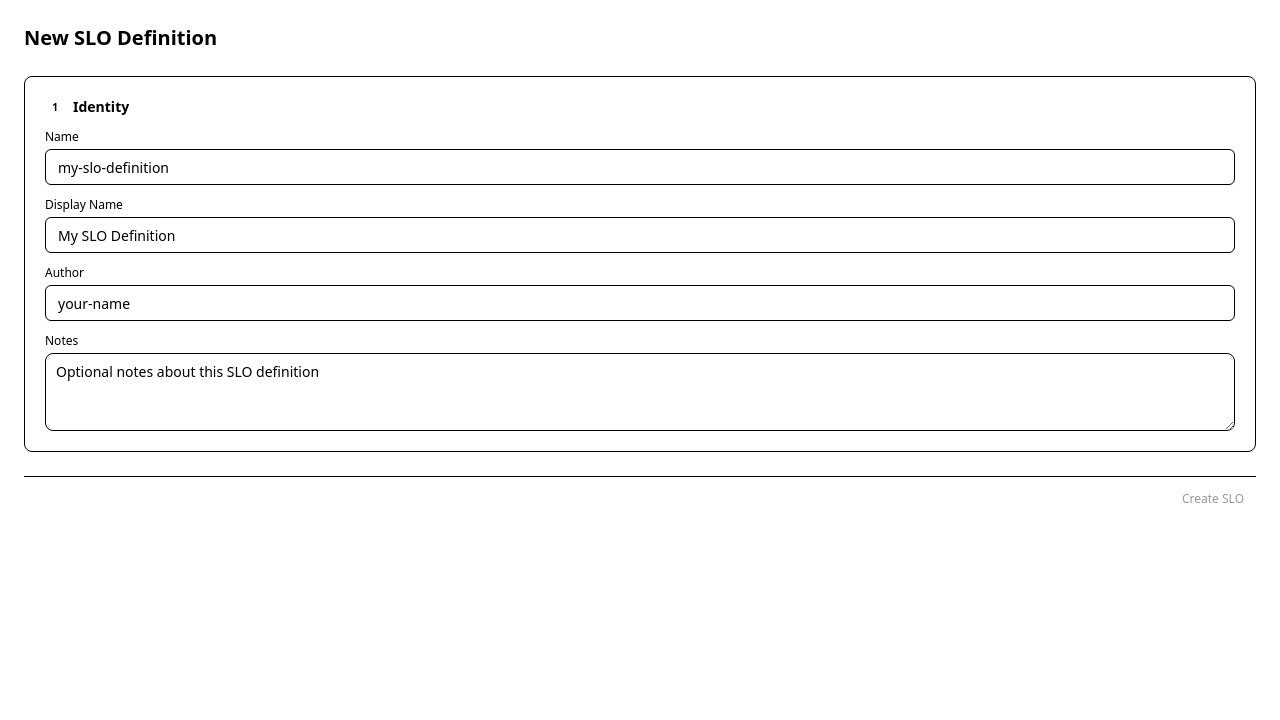
SloWizard › filling name reveals Step 2
Check: the text "Pick SLI" is not shown
Type "my-slo" into the field labelled "Name" at (640, 167), box 45,149 -> 1235,185
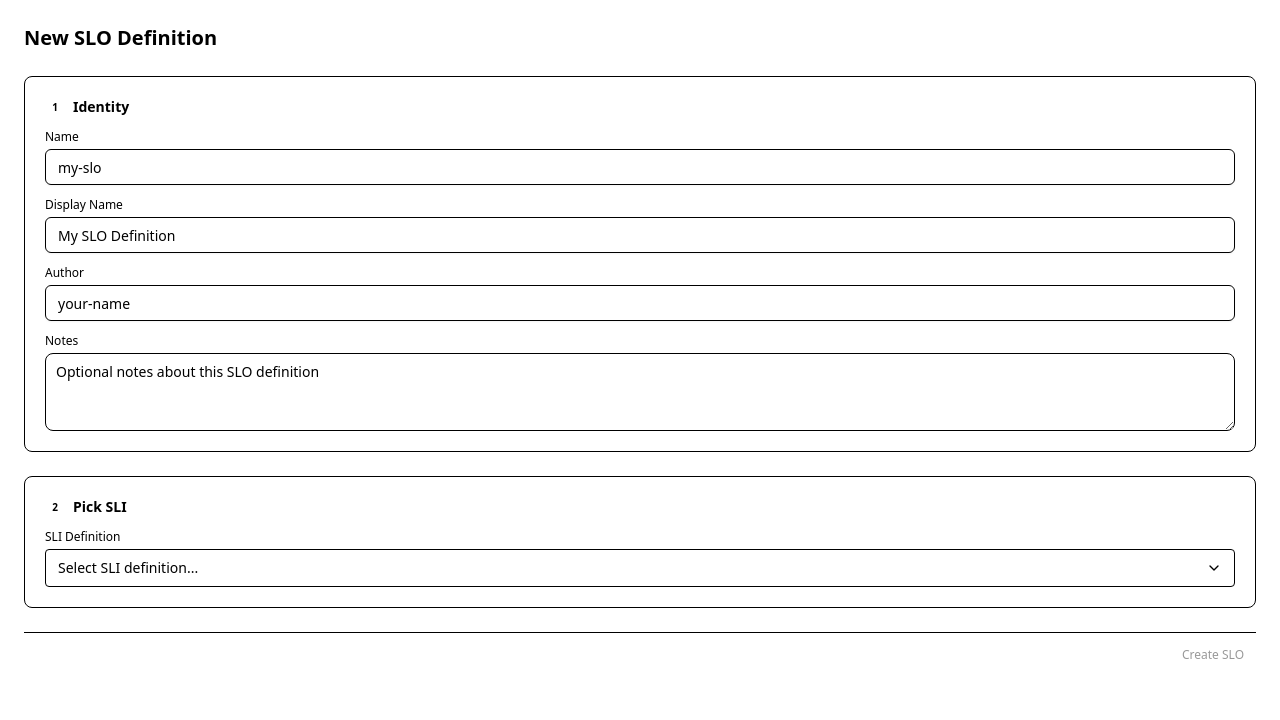
Check: the heading "Pick SLI" is shown, box 73,497 -> 127,517
